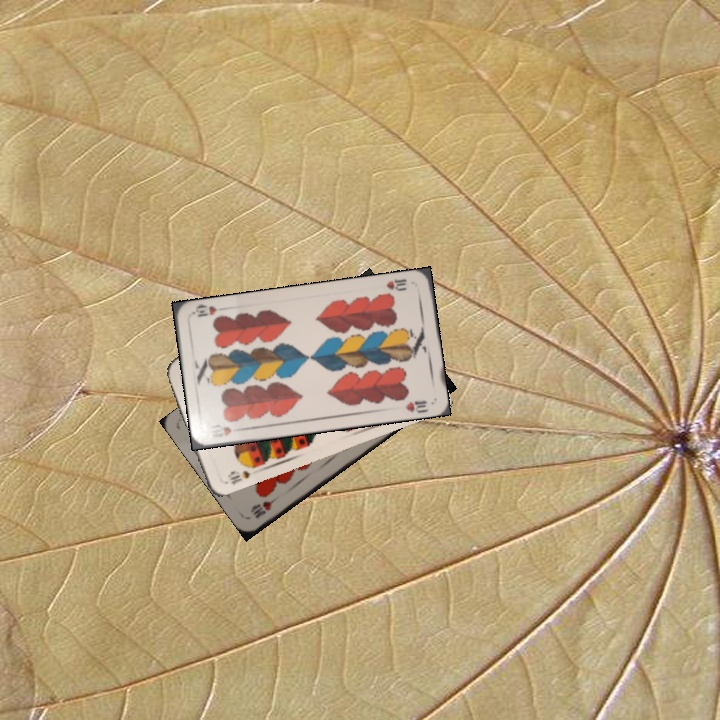H10: (247, 491, 282, 521), (205, 421, 246, 442), (382, 275, 409, 293)
S10: (222, 460, 259, 487)
